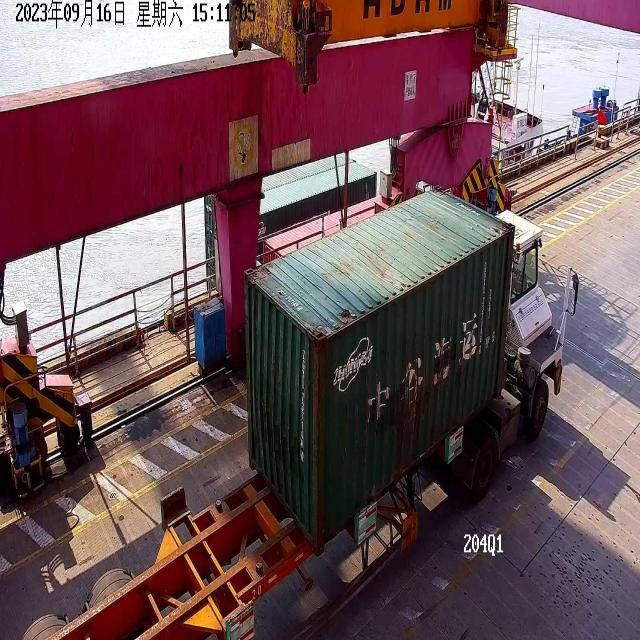dent: (366, 250, 404, 295)
